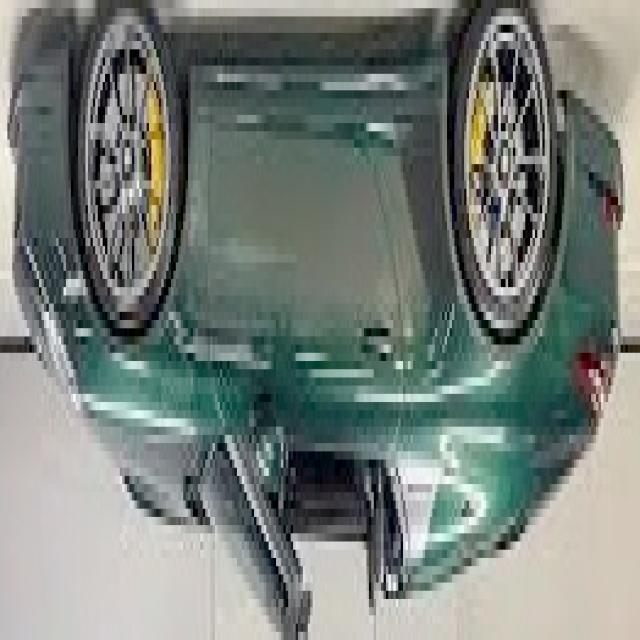green: (9, 0, 622, 640)
